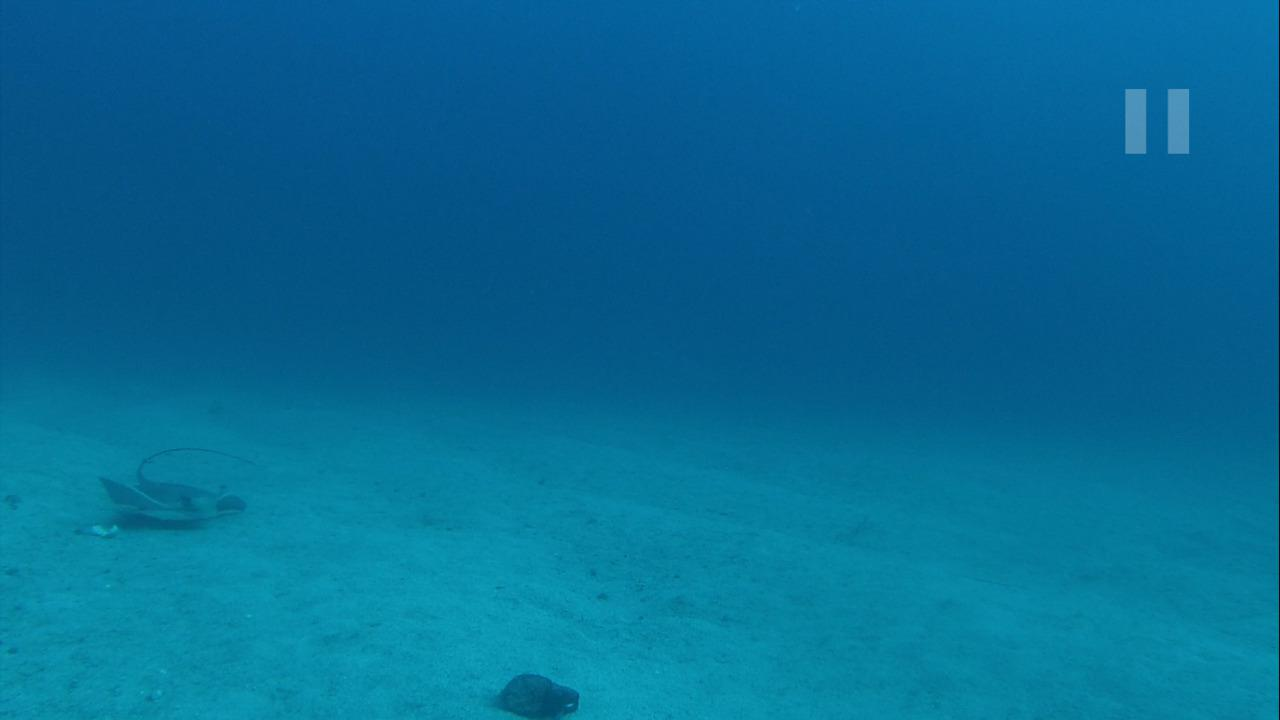myliobatis: (97, 438, 281, 524)
